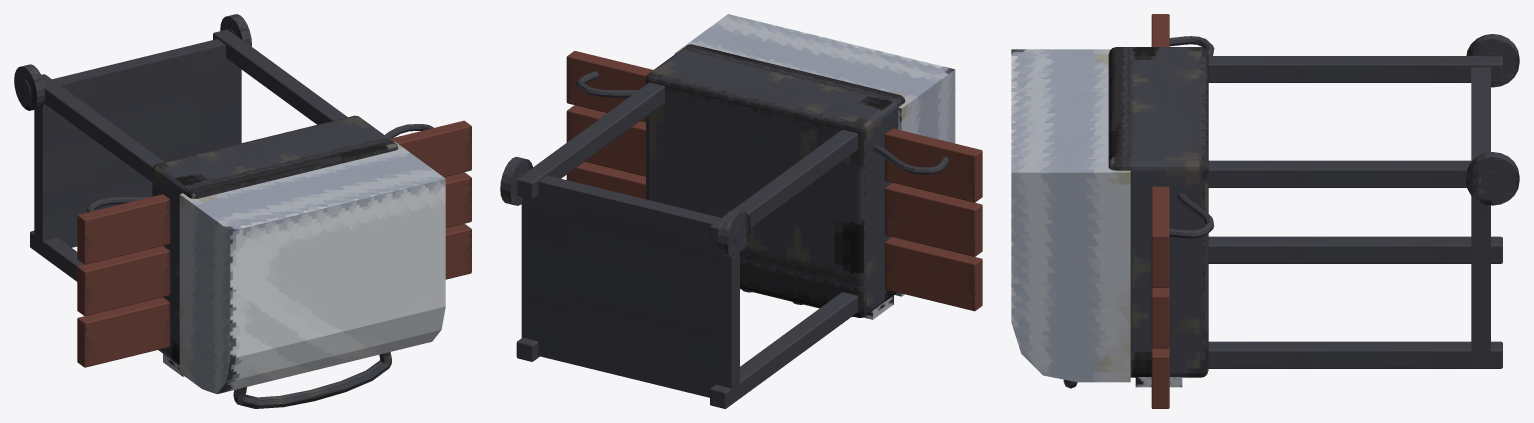
Rendered from pz_barbecue_jorge.obj.
3 views of the same model, side by side, from view 1: azimuth 30°, elevation 25°; view 2: azimuth 150°, elevation 25°; view 3: azimuth 270°, elevation 25° (orthographic). The views are drawn at different scales.
Parts seen in each view (by area): view 1: pz_barbecue_jorge_|_rounded_native_steel_hood, pz_barbecue_jorge_|_open_stand_bottom_shelf, pz_barbecue_jorge_|_grill_firebox, pz_barbecue_jorge_|_native_wood_side_table_slat.002, pz_barbecue_jorge_|_native_wood_side_table_slat, pz_barbecue_jorge_|_native_wood_side_table_slat.001, pz_barbecue_jorge_|_square_stand_leg.001, pz_barbecue_jorge_|_square_stand_leg.003, pz_barbecue_jorge_|_native_wood_side_table_slat.005, pz_barbecue_jorge_|_EDITABLE_curved_hood_handle, pz_barbecue_jorge_|_native_wood_side_table_slat.003, pz_barbecue_jorge_|_native_wood_side_table_slat.004 (+3 smaller); view 2: pz_barbecue_jorge_|_grill_firebox, pz_barbecue_jorge_|_open_stand_bottom_shelf, pz_barbecue_jorge_|_rounded_native_steel_hood, pz_barbecue_jorge_|_native_wood_side_table_slat, pz_barbecue_jorge_|_native_wood_side_table_slat.001, pz_barbecue_jorge_|_native_wood_side_table_slat.002, pz_barbecue_jorge_|_square_stand_leg.003, pz_barbecue_jorge_|_square_stand_leg, pz_barbecue_jorge_|_square_stand_leg.001, pz_barbecue_jorge_|_native_wood_side_table_slat.005, pz_barbecue_jorge_|_native_wood_side_table_slat.004, pz_barbecue_jorge_|_native_wood_side_table_slat.003 (+5 smaller); view 3: pz_barbecue_jorge_|_rounded_native_steel_hood, pz_barbecue_jorge_|_grill_firebox, pz_barbecue_jorge_|_square_stand_leg.002, pz_barbecue_jorge_|_square_stand_leg, pz_barbecue_jorge_|_square_stand_leg.001, pz_barbecue_jorge_|_square_stand_leg.003, pz_barbecue_jorge_|_open_stand_bottom_shelf, pz_barbecue_jorge_|_wheel.001, pz_barbecue_jorge_|_native_wood_side_table_slat.005, pz_barbecue_jorge_|_wheel, pz_barbecue_jorge_|_native_wood_side_table_slat.003, pz_barbecue_jorge_|_native_wood_side_table_slat.004 (+2 smaller).
Part boxes in pixels (x1=…): pz_barbecue_jorge_|_rounded_native_steel_hood: x1=179, y1=141, x2=445, y2=393; pz_barbecue_jorge_|_open_stand_bottom_shelf: x1=34, y1=39, x2=241, y2=250; pz_barbecue_jorge_|_grill_firebox: x1=152, y1=115, x2=398, y2=365; pz_barbecue_jorge_|_native_wood_side_table_slat.002: x1=77, y1=194, x2=170, y2=264; pz_barbecue_jorge_|_native_wood_side_table_slat: x1=77, y1=297, x2=170, y2=367; pz_barbecue_jorge_|_native_wood_side_table_slat.001: x1=77, y1=246, x2=170, y2=315; pz_barbecue_jorge_|_square_stand_leg.001: x1=41, y1=74, x2=164, y2=182; pz_barbecue_jorge_|_square_stand_leg.003: x1=213, y1=29, x2=347, y2=124; pz_barbecue_jorge_|_native_wood_side_table_slat.005: x1=390, y1=120, x2=471, y2=176; pz_barbecue_jorge_|_EDITABLE_curved_hood_handle: x1=233, y1=352, x2=391, y2=408; pz_barbecue_jorge_|_native_wood_side_table_slat.003: x1=445, y1=223, x2=471, y2=279; pz_barbecue_jorge_|_native_wood_side_table_slat.004: x1=444, y1=172, x2=471, y2=227; pz_barbecue_jorge_|_grill_firebox: x1=646, y1=44, x2=905, y2=317; pz_barbecue_jorge_|_open_stand_bottom_shelf: x1=521, y1=175, x2=739, y2=402; pz_barbecue_jorge_|_rounded_native_steel_hood: x1=674, y1=14, x2=955, y2=296; pz_barbecue_jorge_|_native_wood_side_table_slat: x1=884, y1=237, x2=982, y2=311; pz_barbecue_jorge_|_native_wood_side_table_slat.001: x1=884, y1=182, x2=982, y2=256; pz_barbecue_jorge_|_native_wood_side_table_slat.002: x1=884, y1=128, x2=982, y2=202; pz_barbecue_jorge_|_square_stand_leg.003: x1=517, y1=82, x2=664, y2=199; pz_barbecue_jorge_|_square_stand_leg: x1=710, y1=292, x2=858, y2=408; pz_barbecue_jorge_|_square_stand_leg.001: x1=710, y1=129, x2=858, y2=244; pz_barbecue_jorge_|_native_wood_side_table_slat.005: x1=566, y1=51, x2=652, y2=122; pz_barbecue_jorge_|_native_wood_side_table_slat.004: x1=566, y1=105, x2=645, y2=176; pz_barbecue_jorge_|_native_wood_side_table_slat.003: x1=566, y1=162, x2=645, y2=199; pz_barbecue_jorge_|_rounded_native_steel_hood: x1=1011, y1=49, x2=1130, y2=382; pz_barbecue_jorge_|_grill_firebox: x1=1108, y1=47, x2=1208, y2=377; pz_barbecue_jorge_|_square_stand_leg.002: x1=1208, y1=341, x2=1502, y2=368; pz_barbecue_jorge_|_square_stand_leg: x1=1208, y1=236, x2=1502, y2=263; pz_barbecue_jorge_|_square_stand_leg.001: x1=1208, y1=56, x2=1502, y2=82; pz_barbecue_jorge_|_square_stand_leg.003: x1=1208, y1=160, x2=1471, y2=187; pz_barbecue_jorge_|_open_stand_bottom_shelf: x1=1471, y1=67, x2=1490, y2=366; pz_barbecue_jorge_|_wheel.001: x1=1466, y1=152, x2=1519, y2=205; pz_barbecue_jorge_|_native_wood_side_table_slat.005: x1=1151, y1=186, x2=1169, y2=287; pz_barbecue_jorge_|_wheel: x1=1466, y1=34, x2=1519, y2=87; pz_barbecue_jorge_|_native_wood_side_table_slat.003: x1=1151, y1=347, x2=1169, y2=408; pz_barbecue_jorge_|_native_wood_side_table_slat.004: x1=1151, y1=287, x2=1169, y2=348.
Bounding box in the file's own units: 1.08 × 0.6062 × 1.04.
3 materials, 3 textured.
